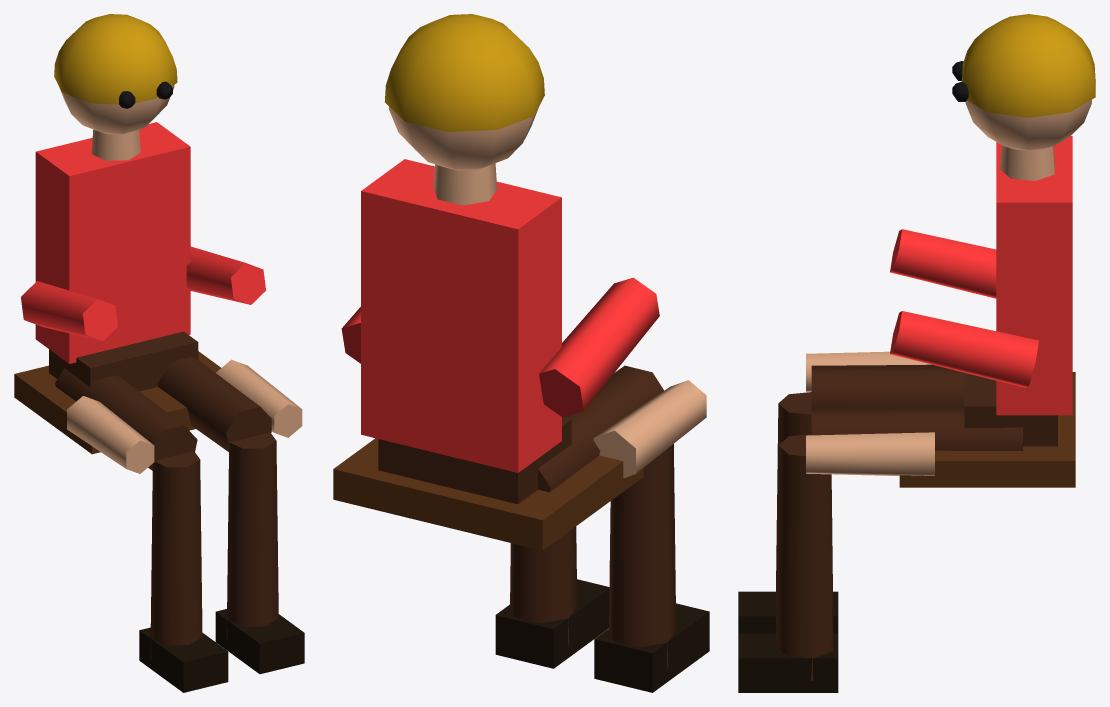
The model's file is crowd-seated-29.glb.
3 renders of one model, left to right at view 1: azimuth 30°, elevation 25°; view 2: azimuth 150°, elevation 25°; view 3: azimuth 270°, elevation 25°, orthographic. The views are drawn at different scales.
Parts seen in each view (by area): view 1: Torso, Left Shin, Right Shin, Hair Cap, Right Thigh, Left Thigh, Hips, Left Upper Arm, Left Shoe, Right Shoe, Left Lower Arm, Bench Seat (+4 smaller); view 2: Torso, Hair Cap, Bench Seat, Left Shin, Left Upper Arm, Hips, Left Shoe, Right Shoe, Left Lower Arm, Right Shin, Left Thigh, Head (+2 smaller); view 3: Torso, Right Shin, Hair Cap, Right Upper Arm, Bench Seat, Left Thigh, Right Thigh, Right Lower Arm, Left Upper Arm, Right Shoe, Head, Hips (+4 smaller).
Part boxes in pixels (box(x1,y1,x2,y2)): Torso: box(35, 122, 190, 363); Left Shin: box(150, 451, 202, 658); Right Shin: box(226, 432, 278, 639); Hair Cap: box(54, 14, 177, 104); Right Thigh: box(157, 356, 271, 451); Left Thigh: box(55, 368, 197, 470); Hips: box(49, 331, 198, 391); Left Upper Arm: box(21, 281, 117, 340); Left Shoe: box(139, 627, 228, 692); Right Shoe: box(215, 609, 304, 674); Left Lower Arm: box(67, 396, 154, 473); Bench Seat: box(14, 351, 220, 454); Torso: box(361, 159, 561, 472); Hair Cap: box(385, 14, 544, 131); Bench Seat: box(333, 438, 643, 550); Left Shin: box(609, 444, 676, 668); Left Upper Arm: box(539, 277, 659, 417); Hips: box(378, 417, 571, 504); Left Shoe: box(594, 603, 709, 692); Right Shoe: box(495, 579, 609, 668); Left Lower Arm: box(593, 380, 706, 478); Right Shin: box(510, 526, 577, 644); Left Thigh: box(538, 365, 663, 492); Head: box(389, 107, 538, 170); Torso: box(996, 136, 1072, 415); Right Shin: box(775, 434, 832, 681); Hair Cap: box(962, 14, 1095, 117); Right Upper Arm: box(890, 311, 1038, 387); Bench Seat: box(899, 372, 1075, 487); Left Thigh: box(811, 364, 964, 407); Right Thigh: box(811, 406, 1022, 450); Right Lower Arm: box(806, 432, 934, 475); Left Upper Arm: box(890, 229, 996, 298); Right Shoe: box(738, 633, 838, 692); Head: box(965, 99, 1091, 151); Hips: box(964, 372, 1057, 446).
Bounding box in the file's own units: 0.4097 × 1.2 × 0.6089.
